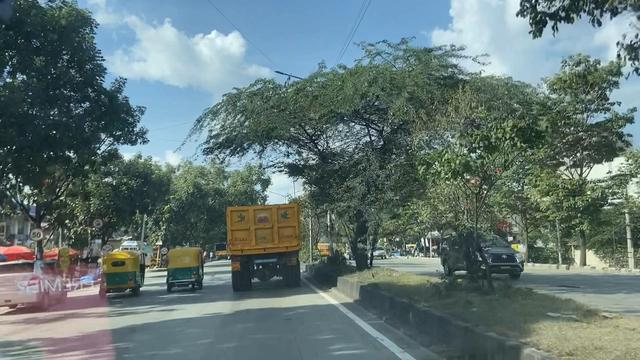HMV: (220, 199, 299, 288)
LMV: (6, 272, 71, 315), (166, 244, 207, 287), (106, 250, 147, 290)
